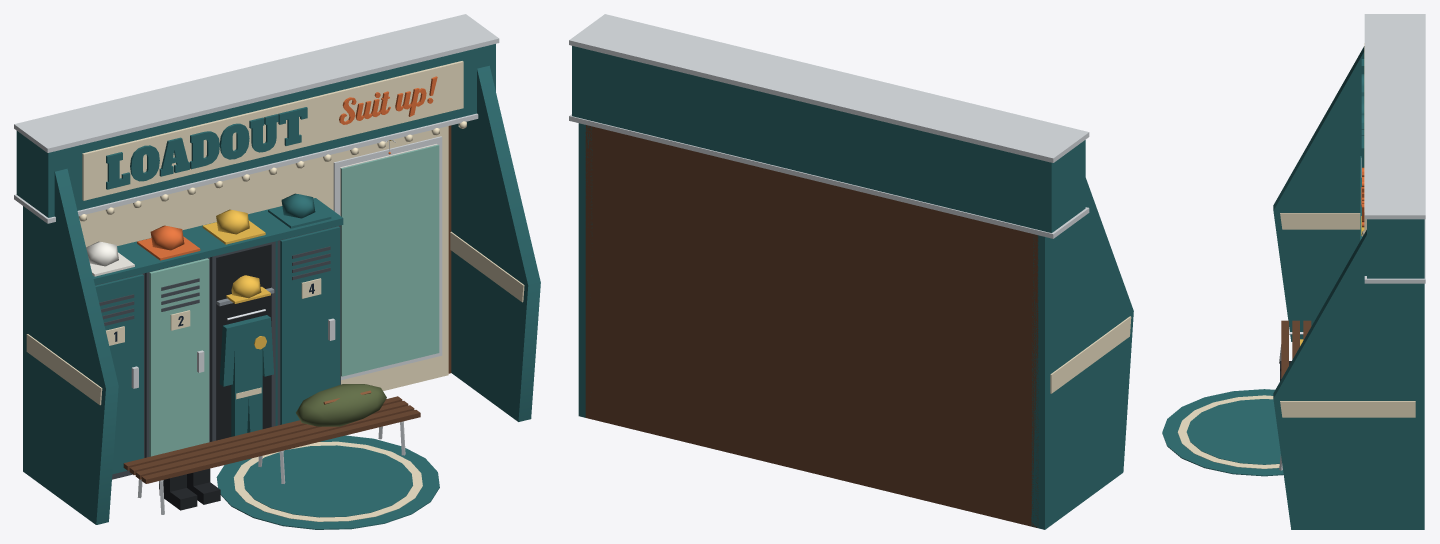
File: Lobby_LoadoutBooth.fbx
3 renders of one model, left to right at view 1: azimuth 30°, elevation 25°; view 2: azimuth 150°, elevation 25°; view 3: azimuth 270°, elevation 25°, orthographic. The views are drawn at different scales.
Parts seen in each view (by area): view 1: Decor, DecorGlassMint, DecorNeonCream; view 2: Decor; view 3: Decor.
Part boxes in pixels (x1,y1,x2,y2): Decor: (14, 14, 540, 529); DecorGlassMint: (341, 144, 439, 376); DecorNeonCream: (79, 121, 466, 221); Decor: (569, 14, 1133, 529); Decor: (1162, 14, 1425, 529).
Bounding box in the file's own units: 21.4 × 15.81 × 11.85.
